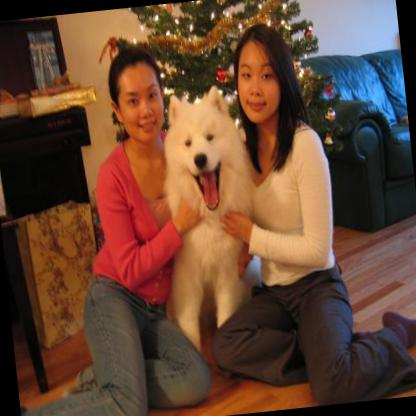Samoyed: (146, 78, 270, 354)
